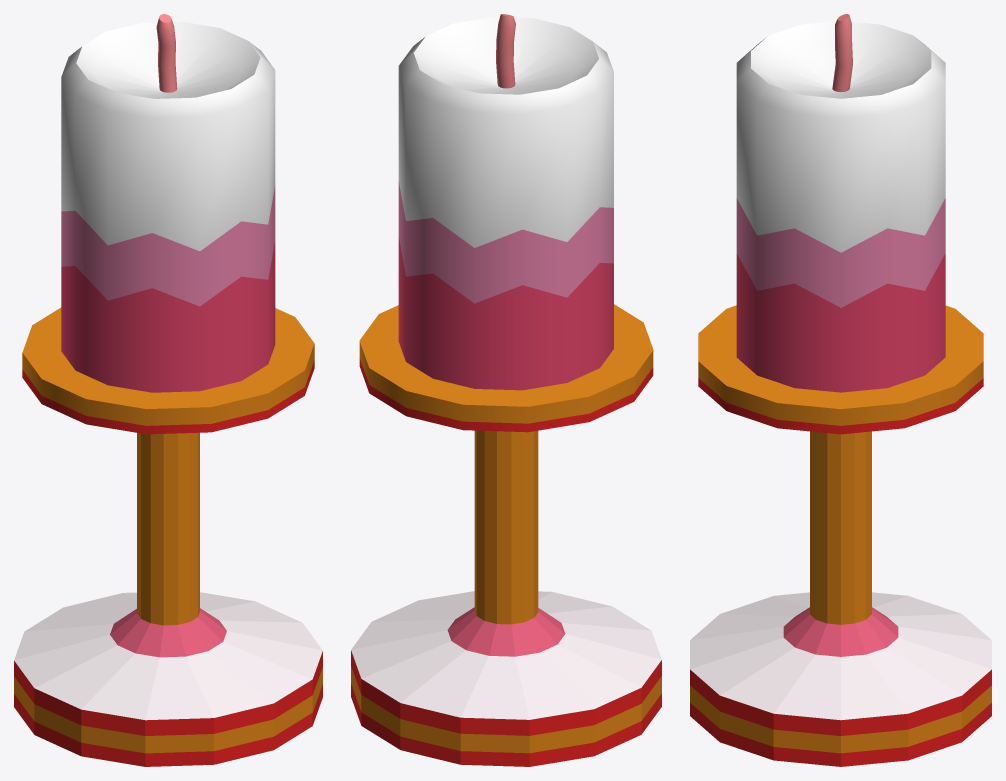
The model's file is Chotbol2-1.fbx.
3 renders of one model, left to right at view 1: azimuth 30°, elevation 25°; view 2: azimuth 150°, elevation 25°; view 3: azimuth 270°, elevation 25°, orthographic.
Parts seen in each view (by area): view 1: Chotbol2-1; view 2: Chotbol2-1; view 3: Chotbol2-1.
Part boxes in pixels (x1,y1,x2,y2): Chotbol2-1: [14, 14, 322, 766]; Chotbol2-1: [351, 14, 661, 766]; Chotbol2-1: [690, 14, 991, 766].
Size of the model in its own units: 0.2276 by 0.5557 by 0.2219.
